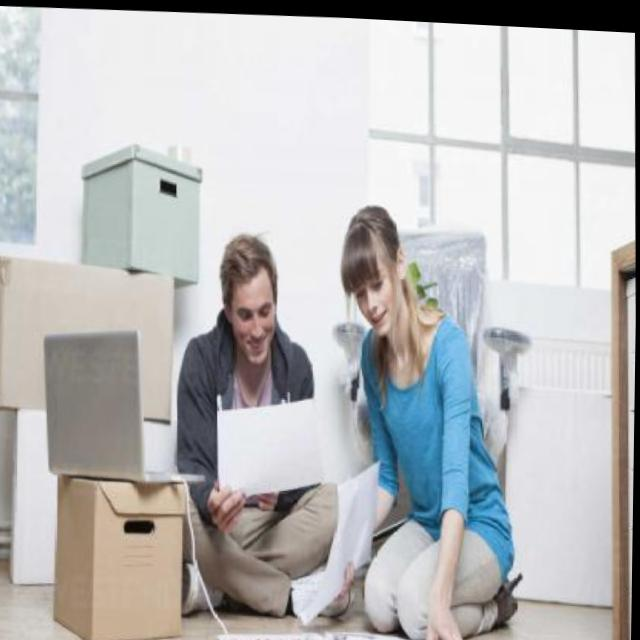box: (0, 235, 187, 446), (4, 402, 182, 620), (46, 461, 194, 640), (73, 133, 209, 297)
